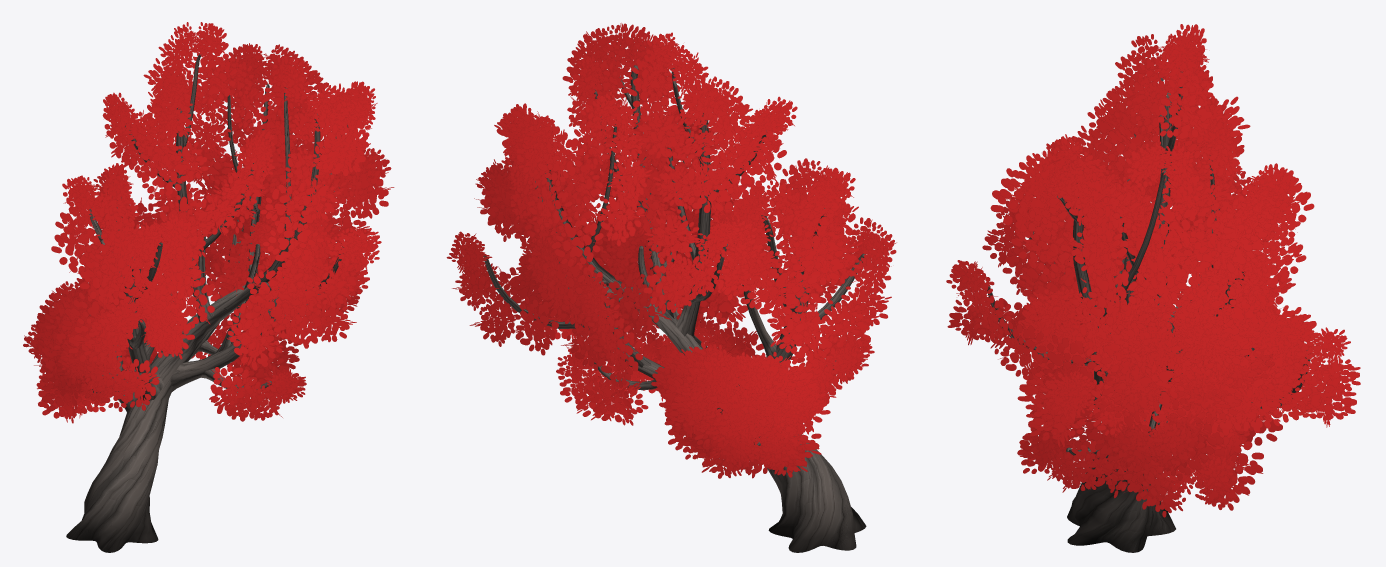
The model's file is TwistedTree_1.glb.
3 views of the same model, side by side, from view 1: azimuth 30°, elevation 25°; view 2: azimuth 150°, elevation 25°; view 3: azimuth 270°, elevation 25° (orthographic). The views are drawn at different scales.
Visible parts, largest first — view 1: TwistedTree_1; view 2: TwistedTree_1; view 3: TwistedTree_1.
Boxes of the visible parts, <box> form: TwistedTree_1: <box>23,22,394,552</box>; TwistedTree_1: <box>446,23,896,552</box>; TwistedTree_1: <box>946,24,1360,552</box>.
Size of the model in its own units: 13.52 by 16.73 by 11.55.
2 materials, 2 textured.
